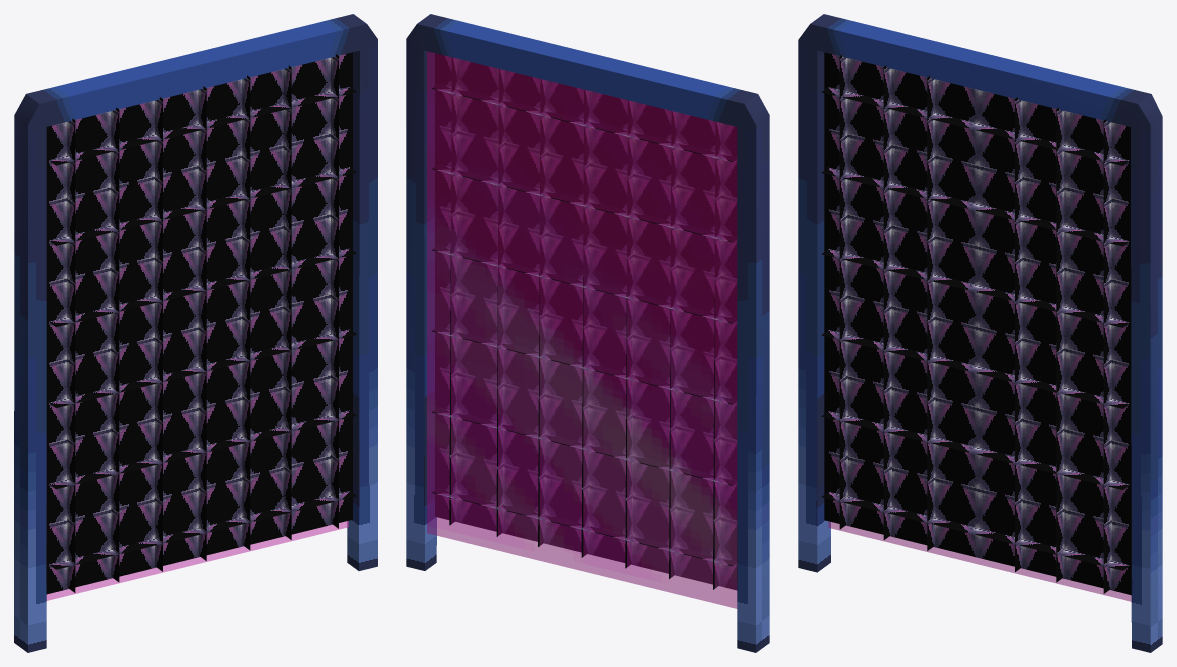
The picture shows the model from 3 angles, left to right: view 1: azimuth 30°, elevation 25°; view 2: azimuth 150°, elevation 25°; view 3: azimuth 330°, elevation 25°; orthographic projection.
Parts seen in each view (by area): view 1: 3932kg3_gs24; view 2: 3932kg3_gs24; view 3: 3932kg3_gs24.
Boxes of the visible parts, x1,y1,x2,y2 form: 3932kg3_gs24: (14,14,377,652); 3932kg3_gs24: (406,14,769,652); 3932kg3_gs24: (798,14,1162,652).
Size of the model in its own units: 1.32 by 1.96 by 0.1094.
3 materials, 3 textured.
